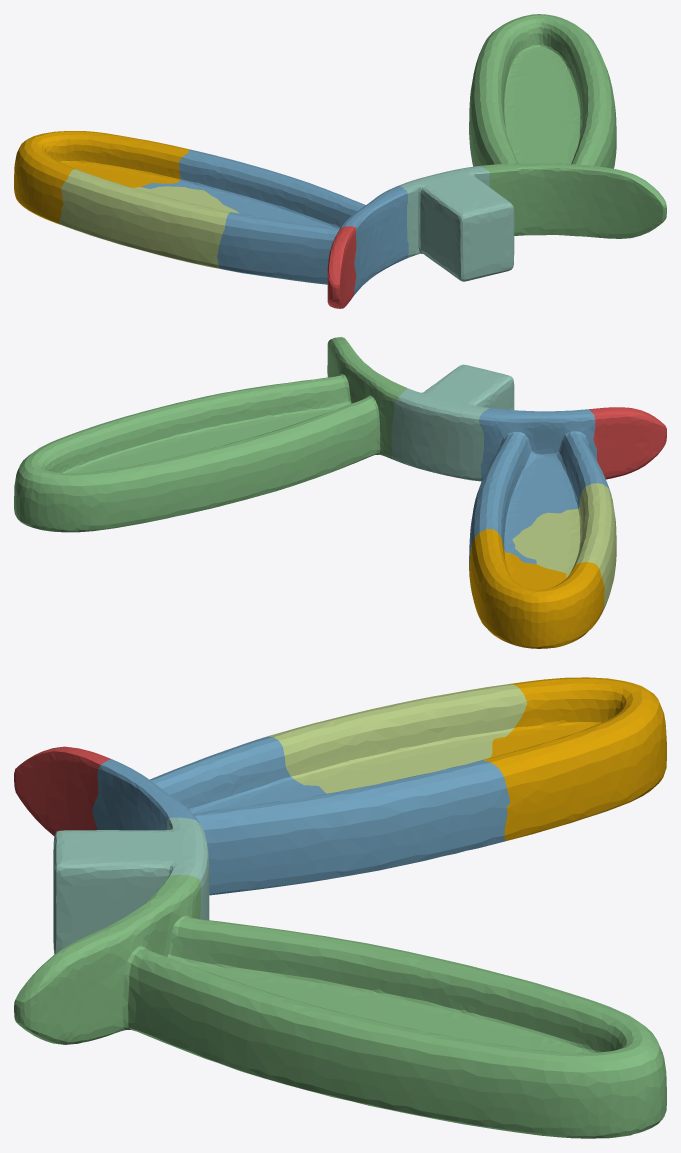
File: mode_7_6pcs.glb
The picture shows the model from 3 angles, top to bottom: view 1: azimuth 30°, elevation 25°; view 2: azimuth 150°, elevation 25°; view 3: azimuth 270°, elevation 25°; orthographic projection. The views are drawn at different scales.
Parts seen in each view (by area): view 1: piece_3.obj, piece_2.obj, piece_5.obj, piece_4.obj, piece_0.obj, piece_1.obj; view 2: piece_3.obj, piece_2.obj, piece_0.obj, piece_4.obj, piece_5.obj, piece_1.obj; view 3: piece_3.obj, piece_2.obj, piece_0.obj, piece_5.obj, piece_4.obj, piece_1.obj.
Part boxes in pixels (left/top/right/bottom): piece_3.obj: left=469, top=14, right=666, bottom=238; piece_2.obj: left=141, top=149, right=408, bottom=296; piece_5.obj: left=58, top=169, right=239, bottom=269; piece_4.obj: left=398, top=166, right=514, bottom=281; piece_0.obj: left=14, top=131, right=189, bottom=225; piece_1.obj: left=327, top=226, right=356, bottom=308; piece_3.obj: left=14, top=337, right=407, bottom=532; piece_2.obj: left=469, top=408, right=611, bottom=570; piece_0.obj: left=469, top=529, right=604, bottom=648; piece_4.obj: left=391, top=364, right=514, bottom=481; piece_5.obj: left=512, top=483, right=616, bottom=611; piece_1.obj: left=589, top=407, right=666, bottom=479; piece_3.obj: left=14, top=874, right=666, bottom=1138; piece_2.obj: left=92, top=736, right=510, bottom=895; piece_0.obj: left=484, top=677, right=666, bottom=841; piece_5.obj: left=267, top=684, right=527, bottom=793; piece_4.obj: left=53, top=817, right=209, bottom=954; piece_1.obj: left=14, top=746, right=112, bottom=835.
Size of the model in its own units: 1 by 0.1158 by 0.6933.
